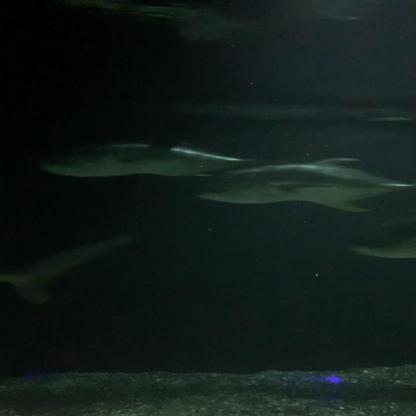fish: (189, 155, 415, 215), (36, 136, 290, 179), (346, 220, 416, 263)
shark: (0, 229, 142, 306)
